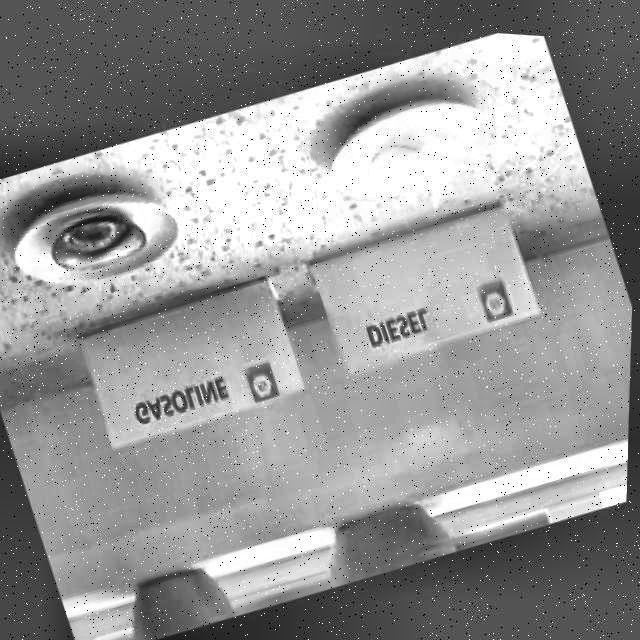Fire: (371, 115, 473, 225)
